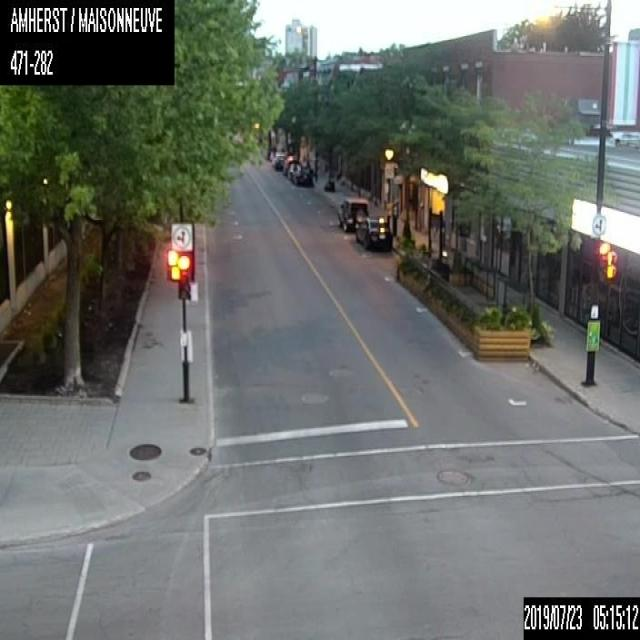vehicle: (354, 216, 392, 250), (337, 197, 368, 230), (293, 167, 312, 185), (271, 150, 286, 170), (287, 162, 301, 178)
